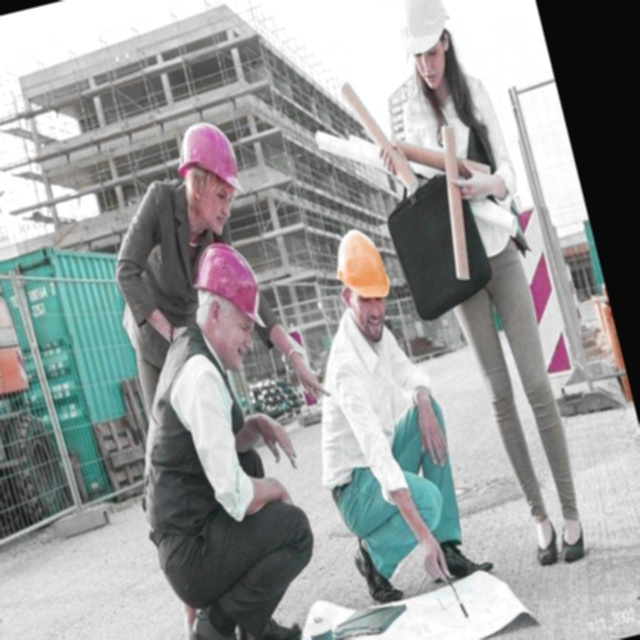Con_Casco: (185, 232, 273, 370), (327, 222, 405, 340), (172, 117, 250, 233), (391, 0, 464, 84)
